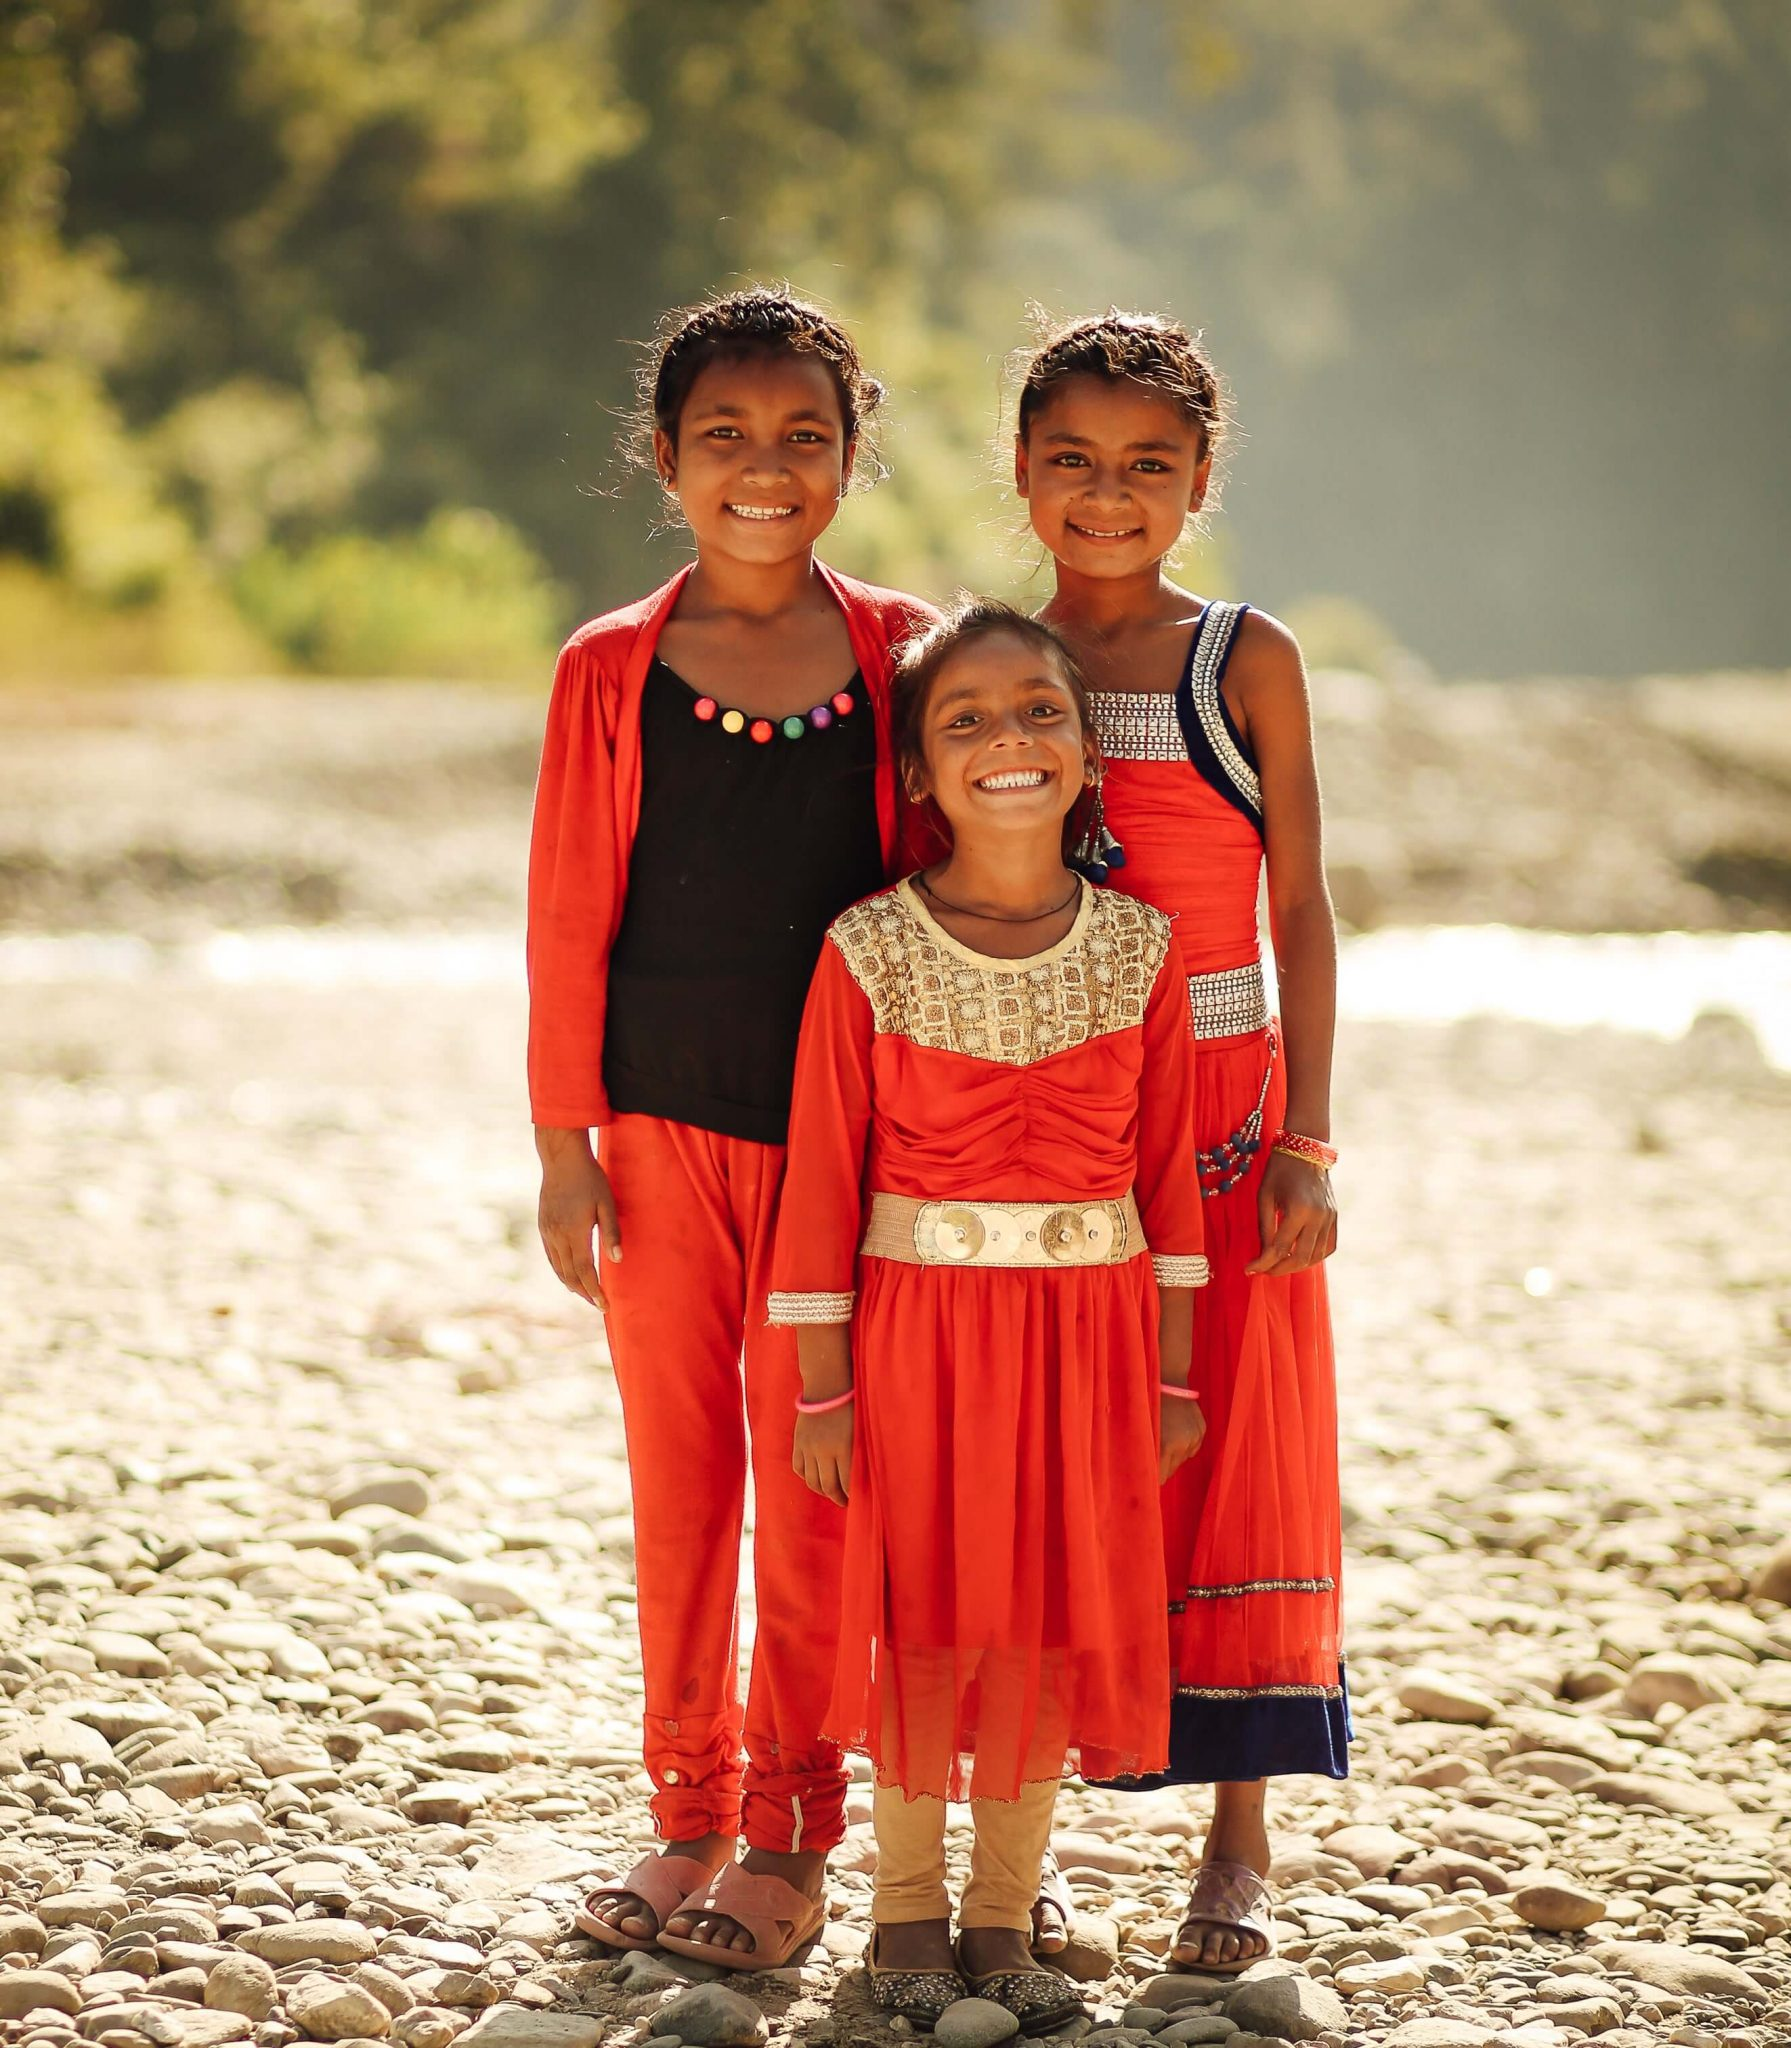human: (506, 274, 963, 1987), (757, 585, 1214, 2044), (987, 283, 1357, 2000)
